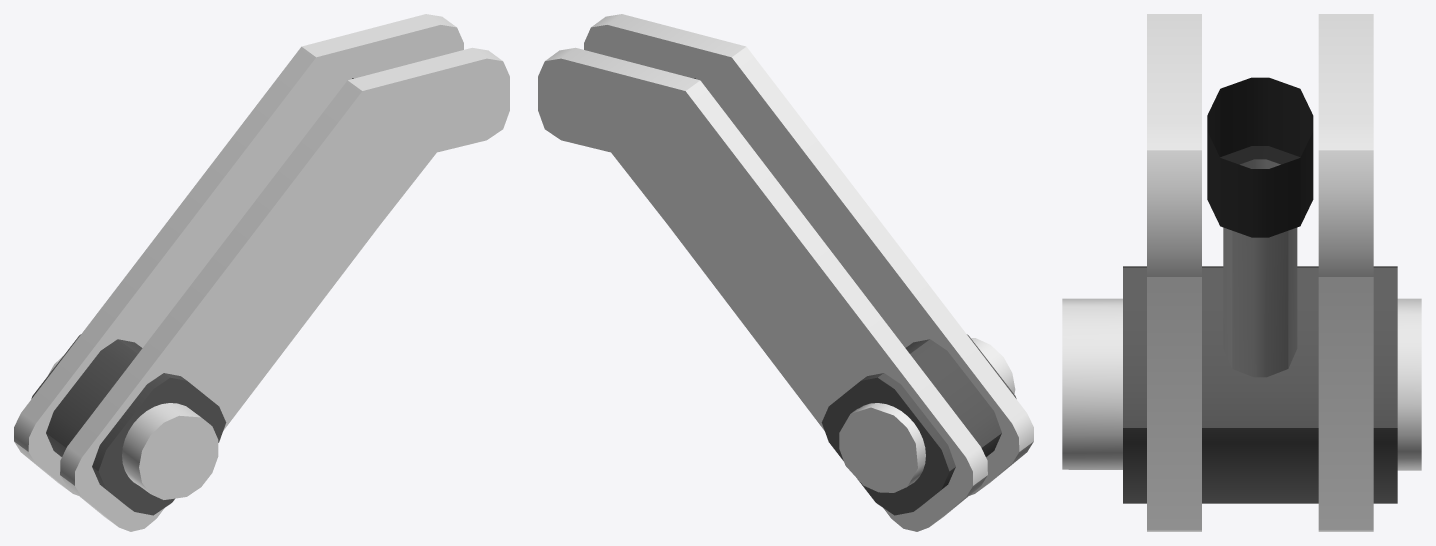
The model's file is pata_tra_der.obj.
3 views of the same model, side by side, from view 1: azimuth 30°, elevation 25°; view 2: azimuth 150°, elevation 25°; view 3: azimuth 270°, elevation 25° (orthographic). The views are drawn at different scales.
Parts seen in each view (by area): view 1: pata_tra_der; view 2: pata_tra_der; view 3: pata_tra_der.
Boxes of the visible parts, x1,y1,x2,y2 form: pata_tra_der: [14, 14, 509, 531]; pata_tra_der: [538, 14, 1033, 531]; pata_tra_der: [1062, 14, 1421, 531].
Size of the model in its own units: 3.27 by 2.77 by 1.26.
